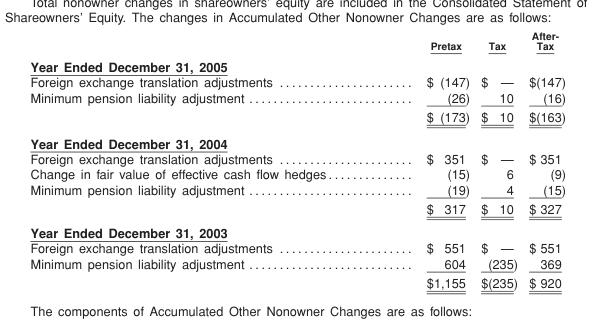table: (29, 29, 565, 289)
table column: (29, 29, 375, 289), (375, 29, 474, 289), (474, 29, 522, 289), (522, 29, 565, 289)
table column header: (29, 29, 565, 55)
table projected row header: (29, 129, 565, 150), (29, 220, 565, 239), (29, 55, 565, 73)
table row: (29, 29, 565, 55), (29, 106, 565, 129), (29, 198, 565, 220), (29, 129, 565, 150), (29, 220, 565, 239), (29, 55, 565, 73), (29, 89, 565, 106), (29, 181, 565, 198), (29, 255, 565, 272), (29, 272, 565, 289), (29, 73, 565, 89), (29, 165, 565, 181), (29, 239, 565, 255), (29, 150, 565, 165)
